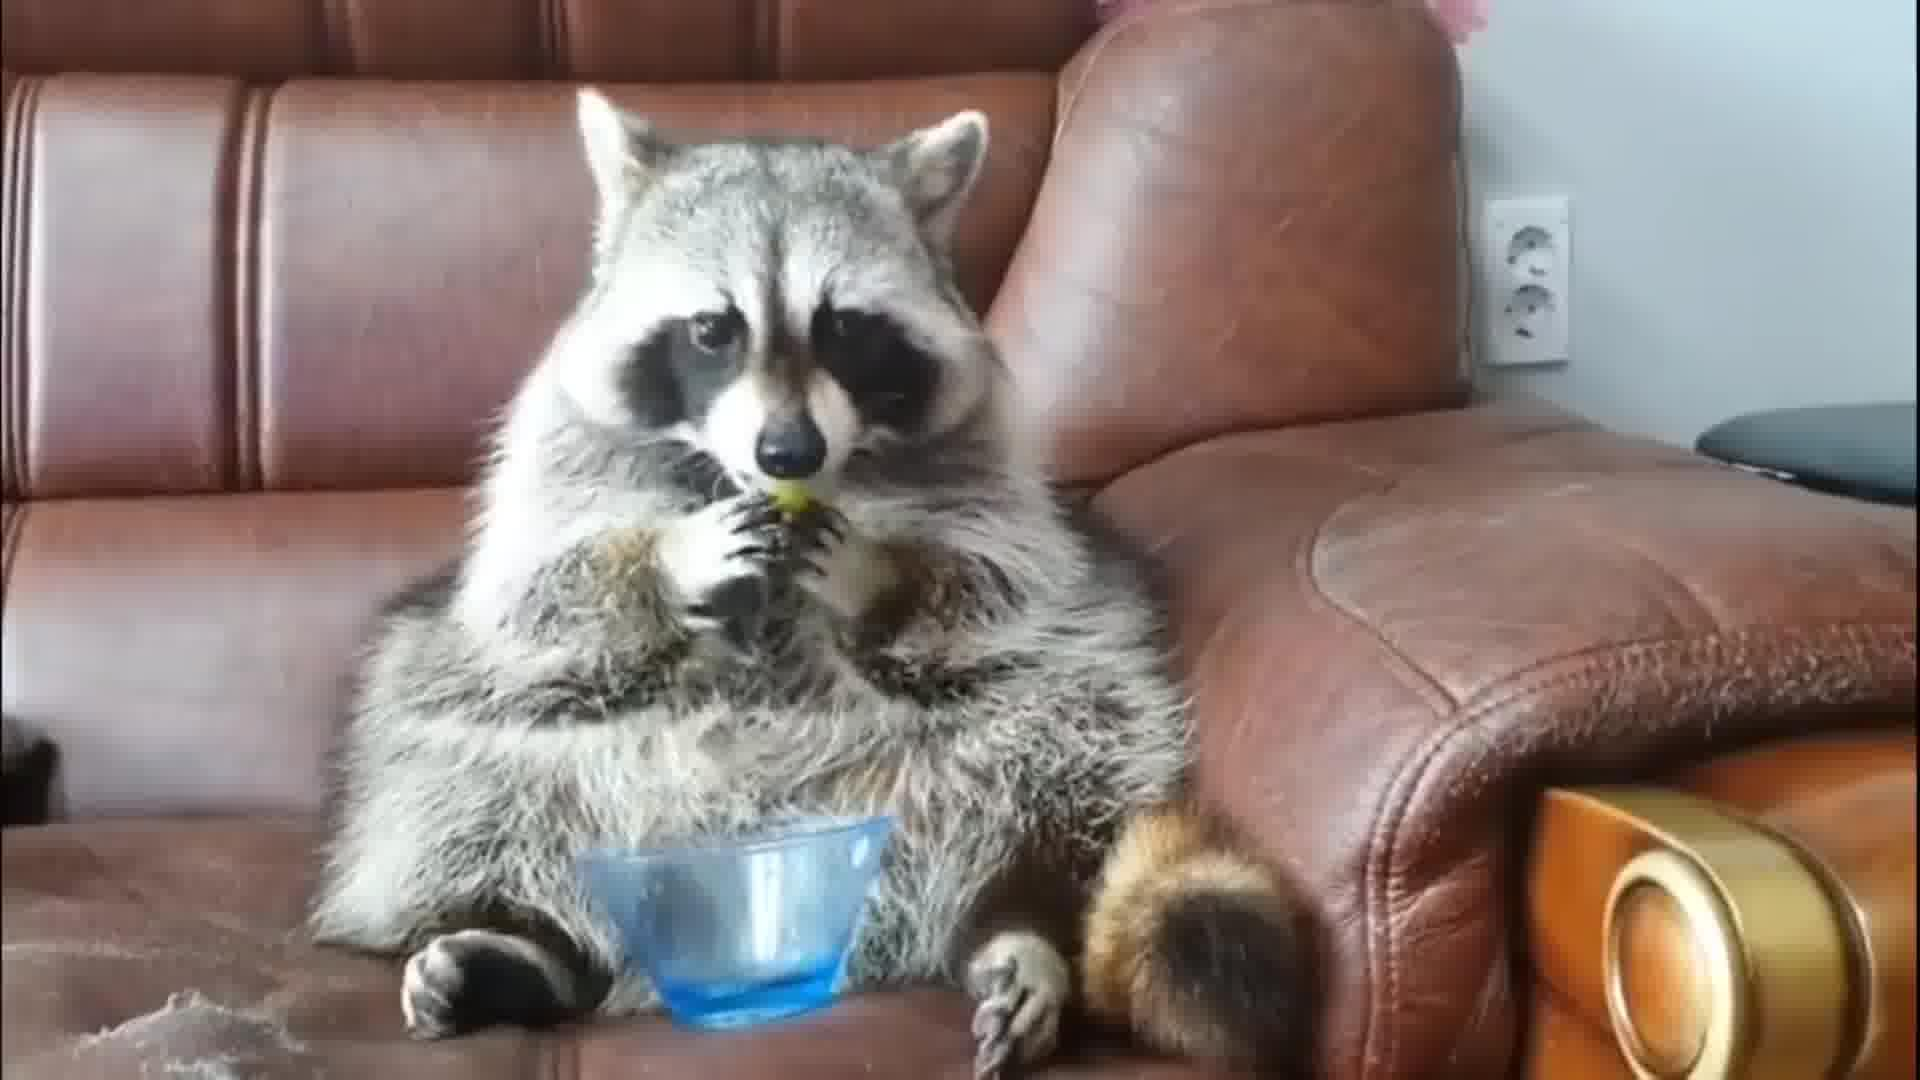raccoon: (316, 85, 1318, 1076)
